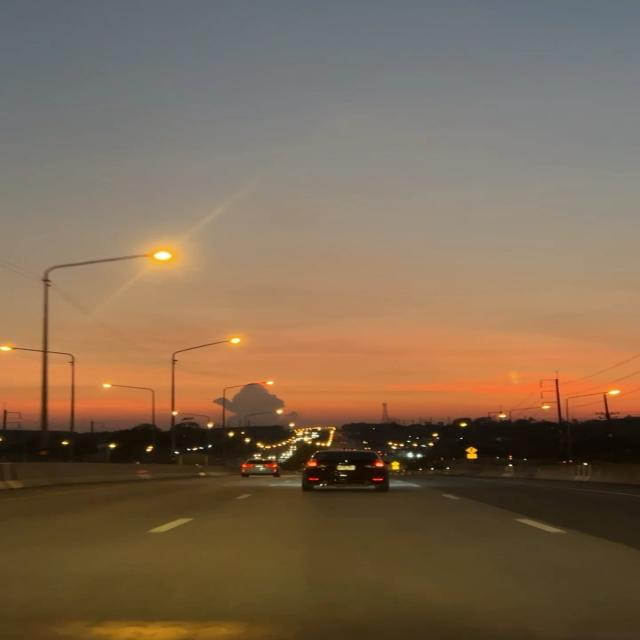Poth-hole: (5, 472, 553, 640)
